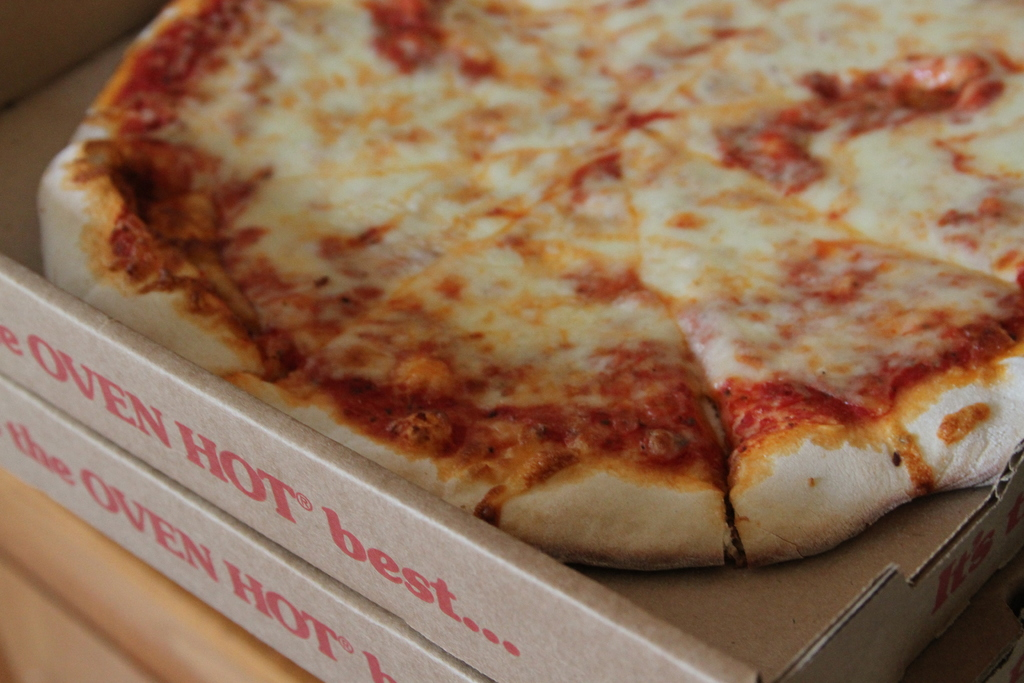Pizza: (29, 0, 1023, 567)
